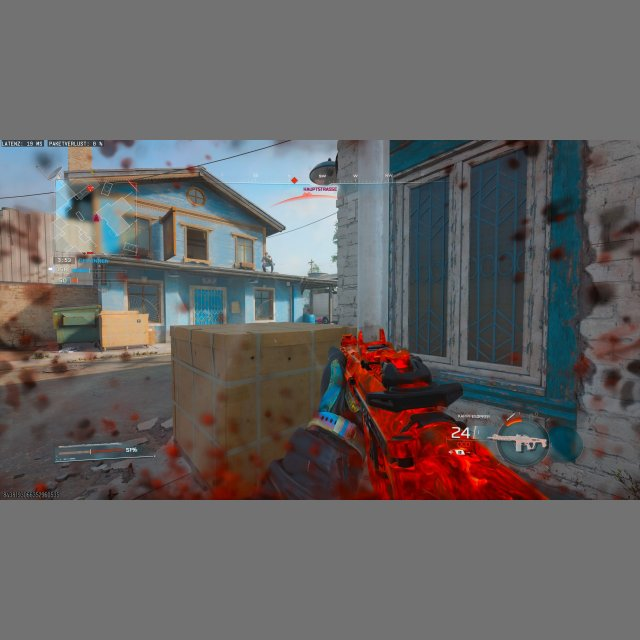player: (261, 252, 274, 272)
